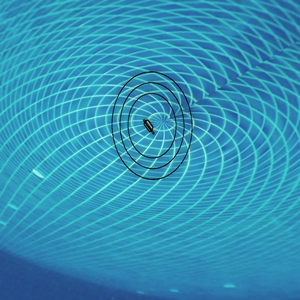circle: (107, 68, 196, 189)
submarine: (144, 120, 154, 131)
